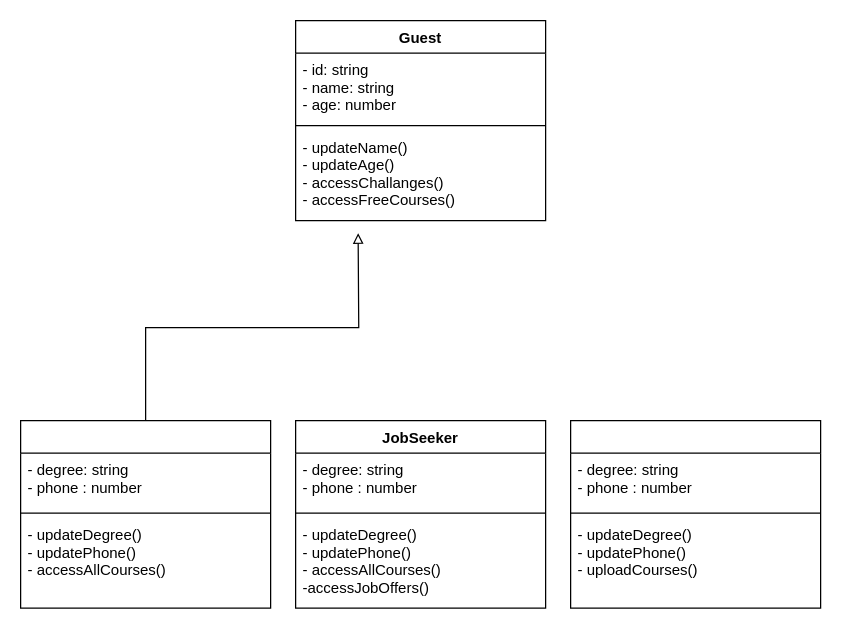
Image size: 841x629. Some labels were removed from this diagram. The box of each missing label's shape, as (x1, y1, x2, y2) in pixels:
Instructor: (569, 419, 821, 608)
Student: (19, 419, 271, 608)
